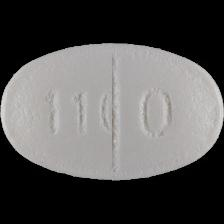76237-302: (0, 0, 224, 224)
